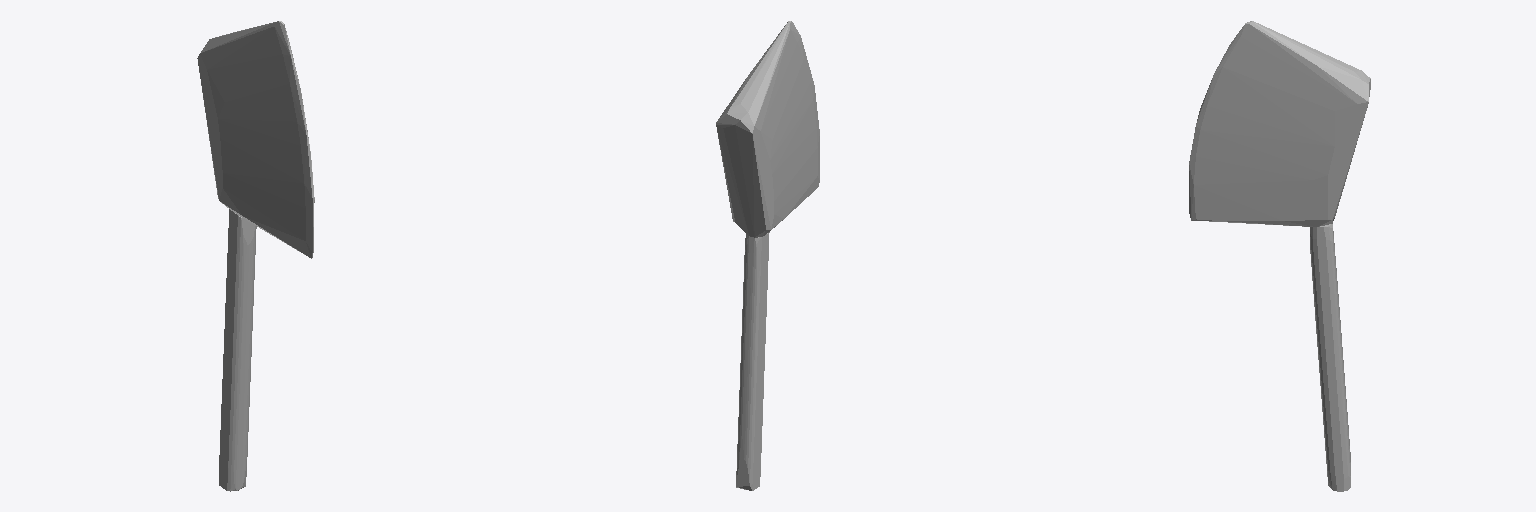
URDF robot description (root):
<robot name="root">
  <link name="link_9ee6565a5fbbe0cf6dc009052b6244c9_convex_piece_0">
    <inertial>
      <origin rpy="0 0 0" xyz="0 0 0"/>
      <mass value="1.49E-06"/>
      <inertia ixx="1.23E-09" ixy="-4.12E-14" ixz="3.46E-12" iyy="1.03E-09" iyz="-7.29E-10" izz="2.12E-10"/>
    </inertial>
    <visual>
      <origin rpy="0 0 0" xyz="0 0 0"/>
      <geometry>
        <mesh filename="9ee6565a5fbbe0cf6dc009052b6244c9_convex_piece_0.obj" scale="1.0000E+00"/>
      </geometry>
      <material name="">
        <color rgba="7.50E-01 7.50E-01 7.50E-01 1"/>
      </material>
    </visual>
    <collision>
      <origin rpy="0 0 0" xyz="0 0 0"/>
      <geometry>
        <mesh filename="9ee6565a5fbbe0cf6dc009052b6244c9_convex_piece_0.obj" scale="1.0000E+00"/>
      </geometry>
    </collision>
  </link>
  <link name="link_9ee6565a5fbbe0cf6dc009052b6244c9_convex_piece_1">
    <inertial>
      <origin rpy="0 0 0" xyz="0 0 0"/>
      <mass value="7.88E-06"/>
      <inertia ixx="5.97E-09" ixy="4.60E-12" ixz="2.08E-12" iyy="5.31E-09" iyz="1.92E-10" izz="7.51E-10"/>
    </inertial>
    <visual>
      <origin rpy="0 0 0" xyz="0 0 0"/>
      <geometry>
        <mesh filename="9ee6565a5fbbe0cf6dc009052b6244c9_convex_piece_1.obj" scale="1.0000E+00"/>
      </geometry>
      <material name="">
        <color rgba="7.50E-01 7.50E-01 7.50E-01 1"/>
      </material>
    </visual>
    <collision>
      <origin rpy="0 0 0" xyz="0 0 0"/>
      <geometry>
        <mesh filename="9ee6565a5fbbe0cf6dc009052b6244c9_convex_piece_1.obj" scale="1.0000E+00"/>
      </geometry>
    </collision>
  </link>
  <joint name="link_9ee6565a5fbbe0cf6dc009052b6244c9_convex_piece_1_joint" type="fixed">
    <origin rpy="0 0 0" xyz="0 0 0"/>
    <parent link="link_9ee6565a5fbbe0cf6dc009052b6244c9_convex_piece_0"/>
    <child link="link_9ee6565a5fbbe0cf6dc009052b6244c9_convex_piece_1"/>
  </joint>
</robot>

--- Facts derived from the render (not from the file) ---
3 views of the same robot in one strip: view 1: azimuth 30°, elevation 25°; view 2: azimuth 150°, elevation 25°; view 3: azimuth 270°, elevation 25° (orthographic).
Model root with 2 links and 1 joints (1 fixed), rooted at link_9ee6565a5fbbe0cf6dc009052b6244c9_convex_piece_0, posed every joint at zero.
Links seen in each view (by area): view 1: link_9ee6565a5fbbe0cf6dc009052b6244c9_convex_piece_1, link_9ee6565a5fbbe0cf6dc009052b6244c9_convex_piece_0; view 2: link_9ee6565a5fbbe0cf6dc009052b6244c9_convex_piece_1, link_9ee6565a5fbbe0cf6dc009052b6244c9_convex_piece_0; view 3: link_9ee6565a5fbbe0cf6dc009052b6244c9_convex_piece_1, link_9ee6565a5fbbe0cf6dc009052b6244c9_convex_piece_0.
Link boxes in pixels (box(x1,y1,x2,y2)): link_9ee6565a5fbbe0cf6dc009052b6244c9_convex_piece_1: box(197, 21, 314, 258); link_9ee6565a5fbbe0cf6dc009052b6244c9_convex_piece_0: box(219, 209, 256, 491); link_9ee6565a5fbbe0cf6dc009052b6244c9_convex_piece_1: box(716, 21, 819, 237); link_9ee6565a5fbbe0cf6dc009052b6244c9_convex_piece_0: box(736, 232, 769, 490); link_9ee6565a5fbbe0cf6dc009052b6244c9_convex_piece_1: box(1189, 21, 1370, 226); link_9ee6565a5fbbe0cf6dc009052b6244c9_convex_piece_0: box(1310, 224, 1350, 491).
Size in the robot's own frame: 0.0112 by 0.0454 by 0.1284 metres.
2 mesh visuals loaded from 2 distinct referenced files (2 OBJ).